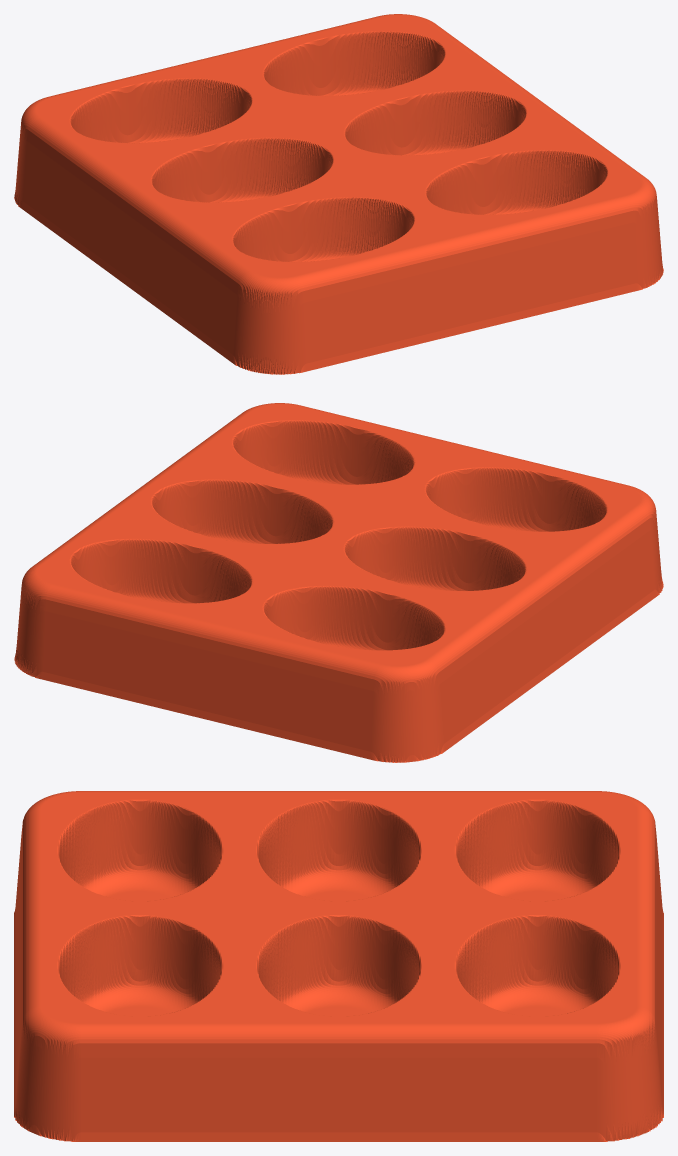
File: mold.glb
3 renders of one model, top to bottom at view 1: azimuth 30°, elevation 25°; view 2: azimuth 150°, elevation 25°; view 3: azimuth 270°, elevation 25°, orthographic. The views are drawn at different scales.
Visible parts, largest first — view 1: geometry_0; view 2: geometry_0; view 3: geometry_0.
Boxes of the visible parts, x1,y1,x2,y2 form: geometry_0: [14, 14, 663, 374]; geometry_0: [14, 403, 663, 762]; geometry_0: [14, 791, 663, 1141].
Bounding box in the file's own units: 0.0808 × 0.0159 × 0.0876.
